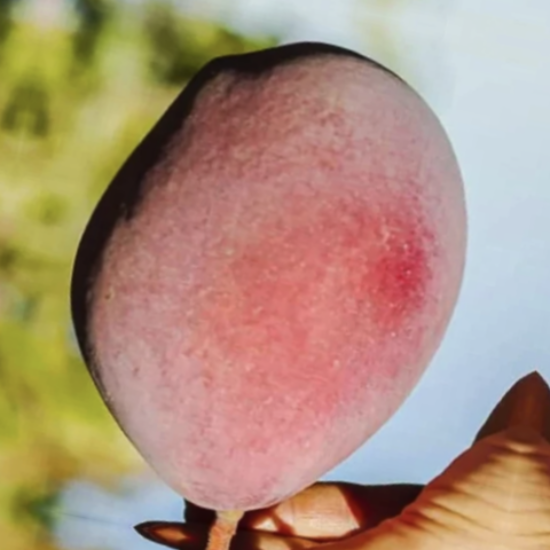mango: (0, 0, 534, 550)
